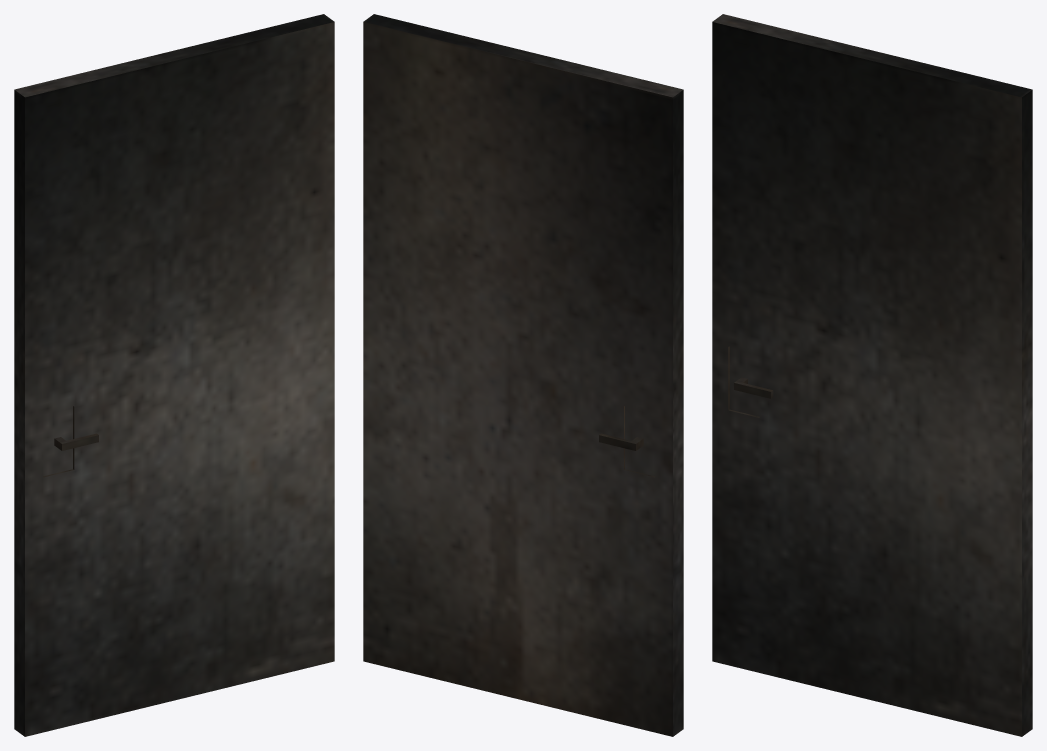
Rendered from Puerta_Oxidadafbx.fbx.
3 renders of one model, left to right at view 1: azimuth 30°, elevation 25°; view 2: azimuth 150°, elevation 25°; view 3: azimuth 330°, elevation 25°, orthographic.
Parts seen in each view (by area): view 1: puerta; view 2: puerta; view 3: puerta.
Part boxes in pixels (bbox=[...]): puerta: bbox=[14, 14, 334, 736]; puerta: bbox=[363, 14, 683, 736]; puerta: bbox=[712, 14, 1032, 736].
Size of the model in its own units: 101 by 200 by 14.77.
